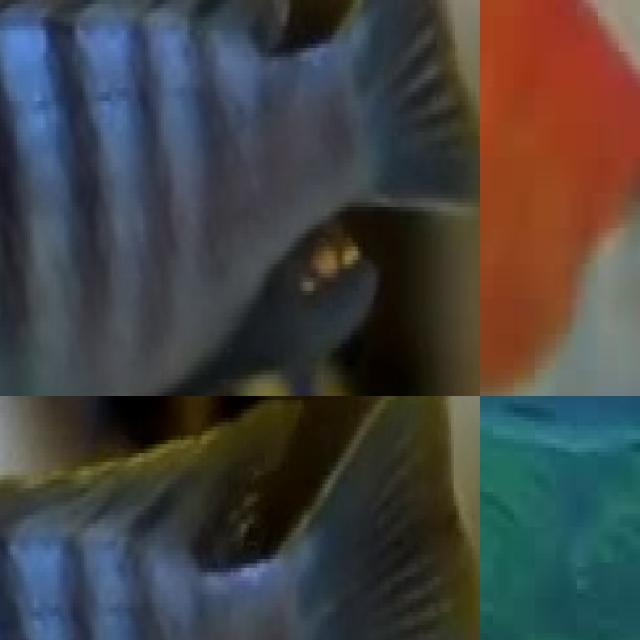fish: (0, 0, 480, 396), (480, 0, 640, 396)
